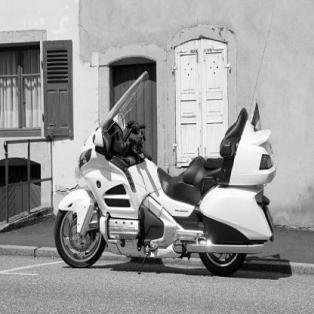Motocicleta: (49, 90, 282, 272)
